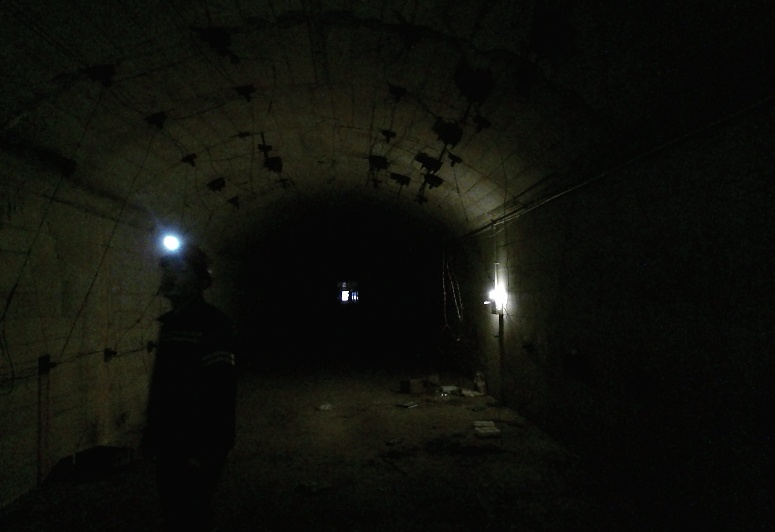person: (170, 240, 287, 531)
